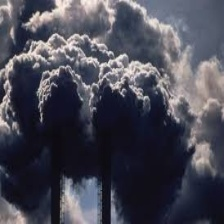smoke: (4, 5, 211, 197)
